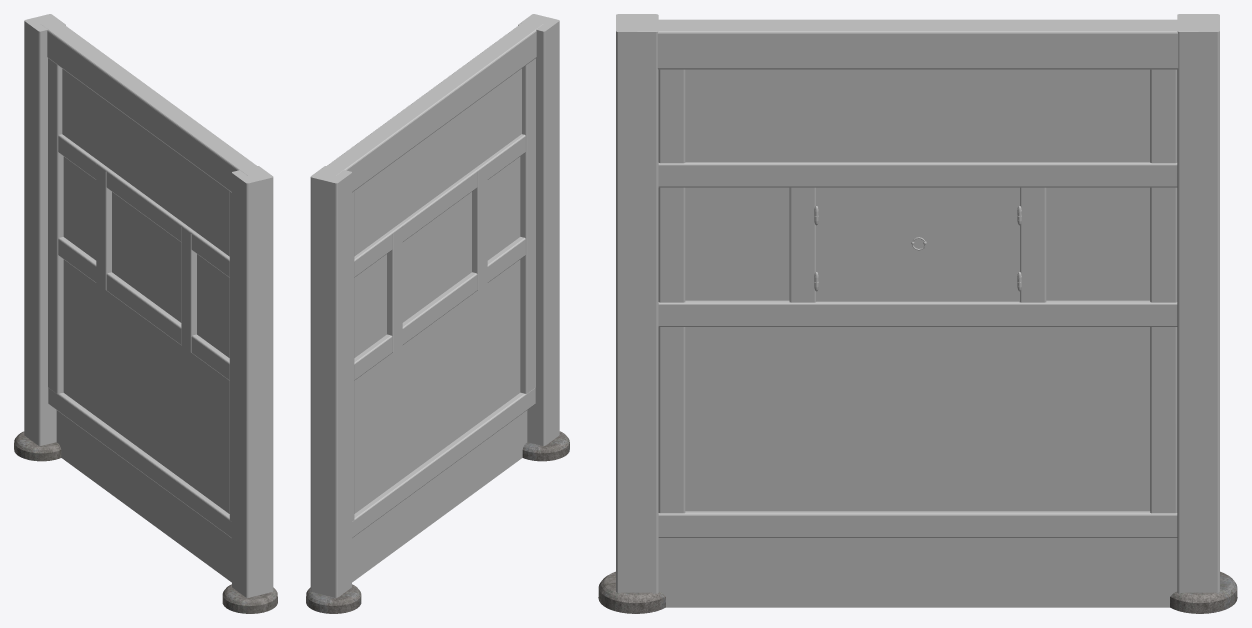
Rendered from SM_Building_Wall_16.FBX.
3 renders of one model, left to right at view 1: azimuth 30°, elevation 25°; view 2: azimuth 150°, elevation 25°; view 3: azimuth 270°, elevation 25°, orthographic. The views are drawn at different scales.
Visible parts, largest first — view 1: SM_Building_Wall_16; view 2: SM_Building_Wall_16; view 3: SM_Building_Wall_16.
Boxes of the visible parts, x1,y1,x2,y2 form: SM_Building_Wall_16: [14, 14, 277, 613]; SM_Building_Wall_16: [306, 14, 569, 613]; SM_Building_Wall_16: [598, 14, 1237, 613].
Size of the model in its own units: 79.99 by 680 by 682.
